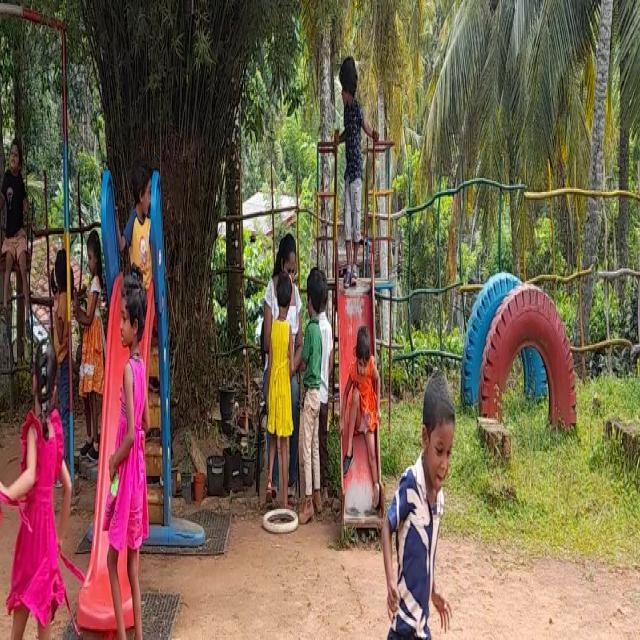child: (365, 379, 466, 640), (0, 359, 67, 640), (106, 268, 155, 640), (295, 269, 323, 511), (78, 207, 106, 446), (0, 116, 32, 316), (338, 46, 365, 272), (267, 272, 294, 494), (352, 315, 383, 490)
